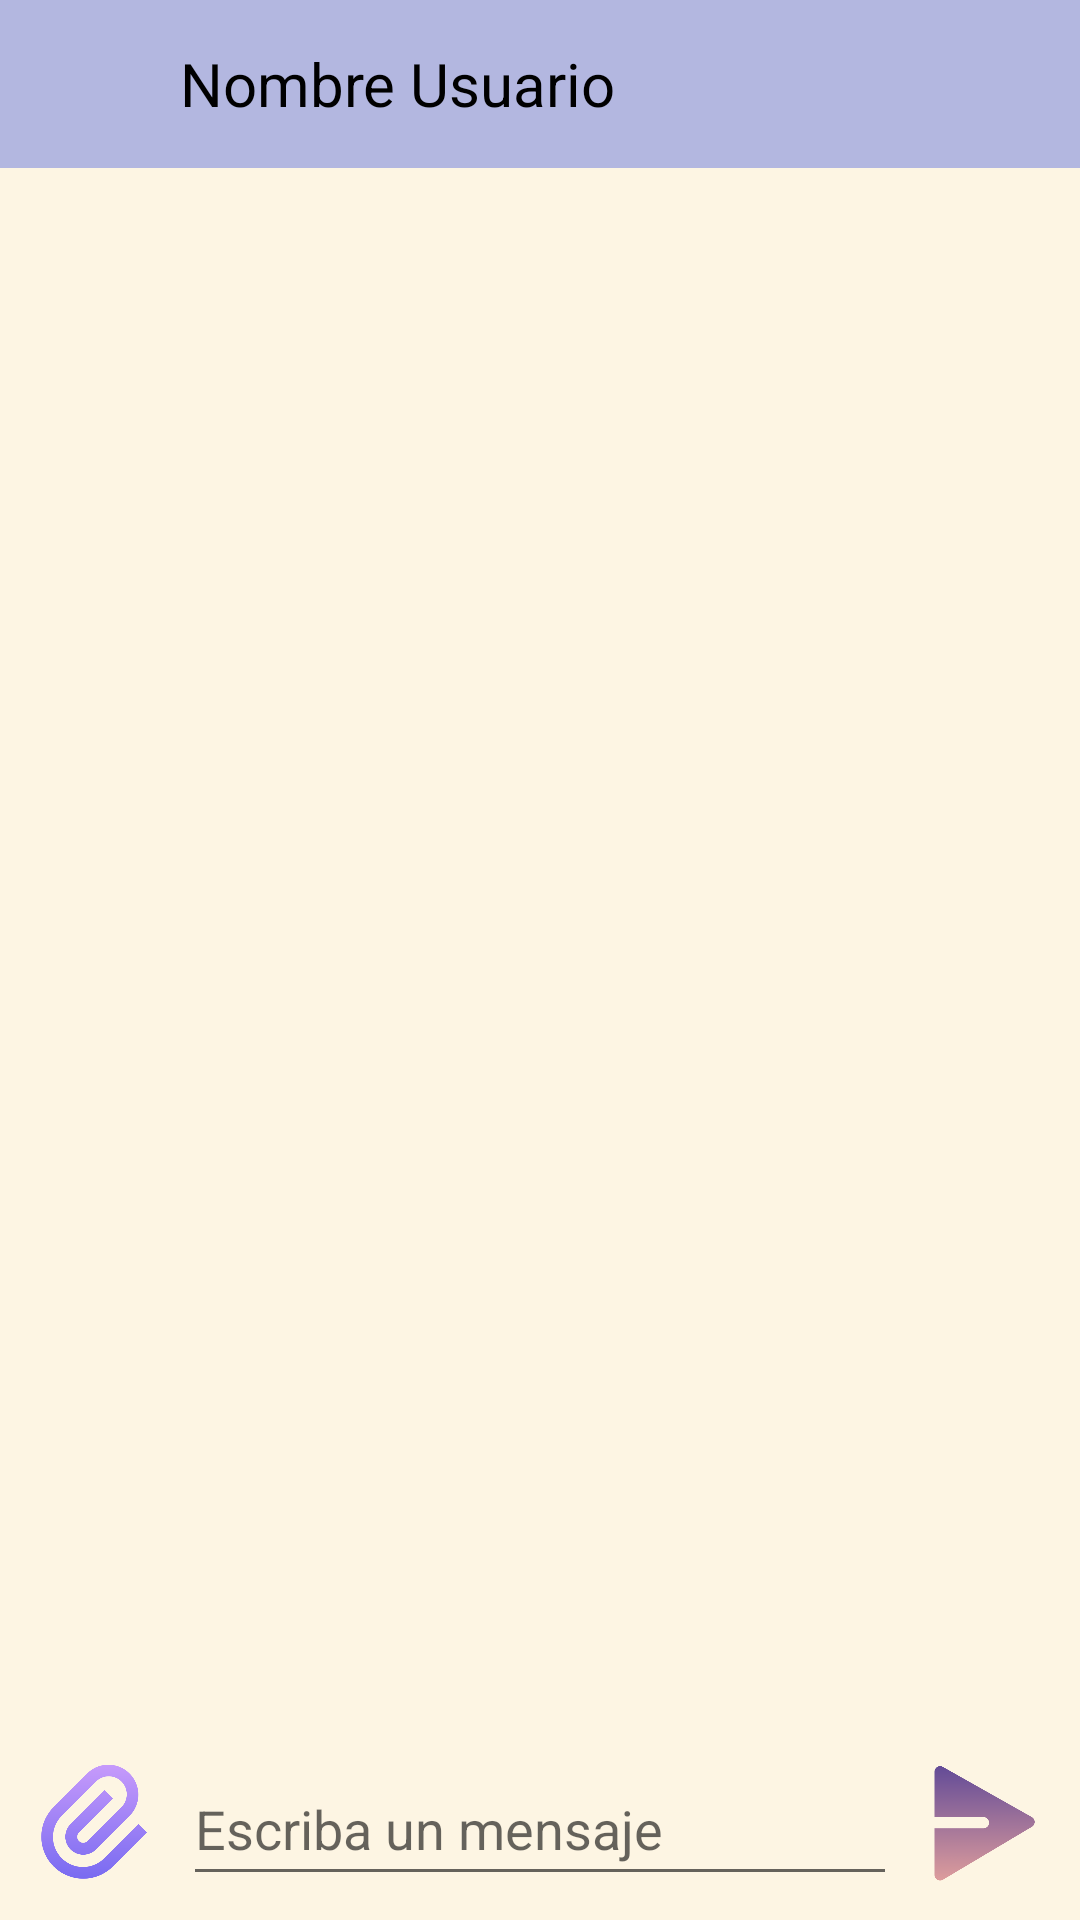

Icons on this 1080w x 1920h Android screen, each with the point to tap as [x,y]:
Adjuntar Imagen: [94,1822]
Enviar mensaje: [984,1823]
